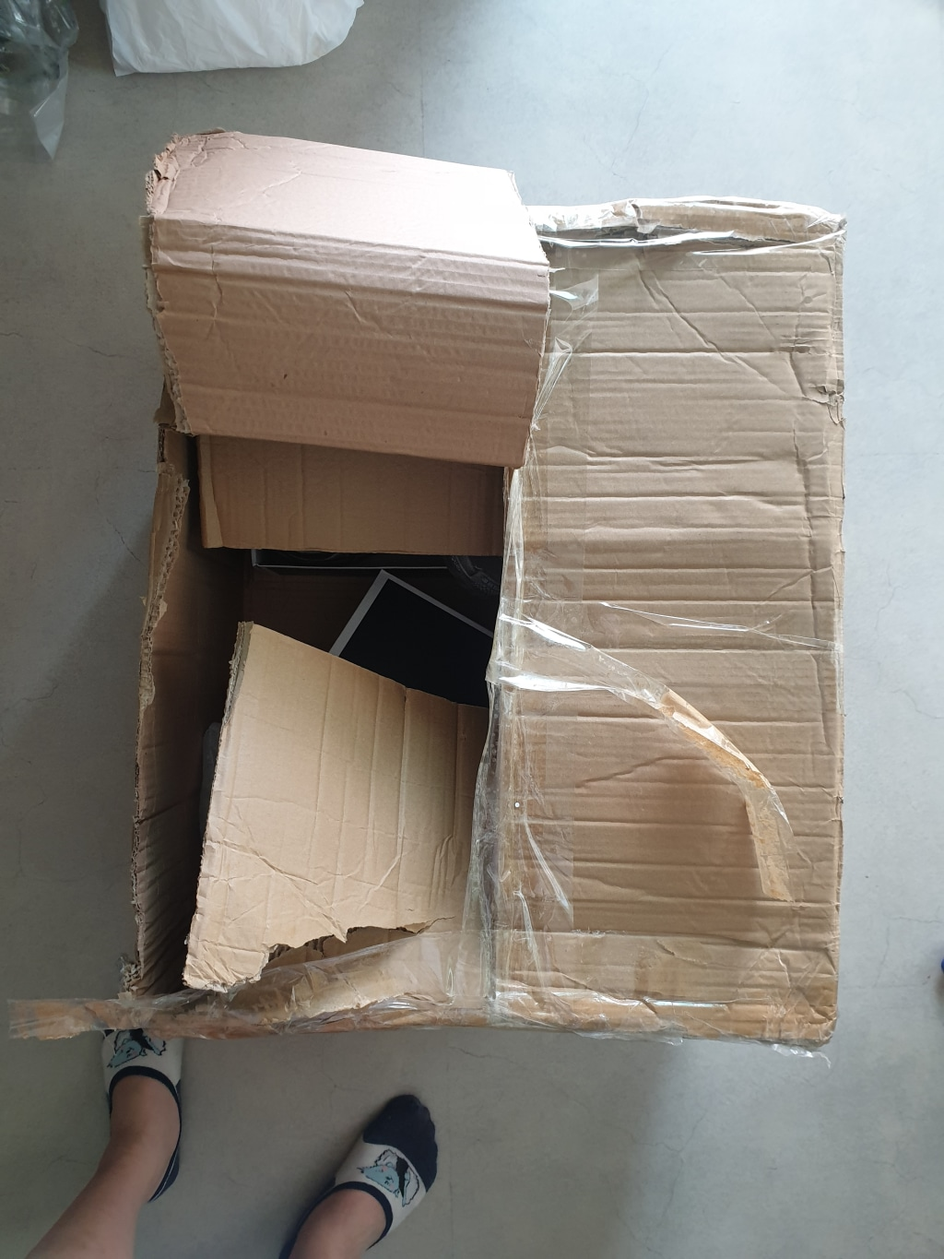damaged package: (121, 435, 500, 1008)
